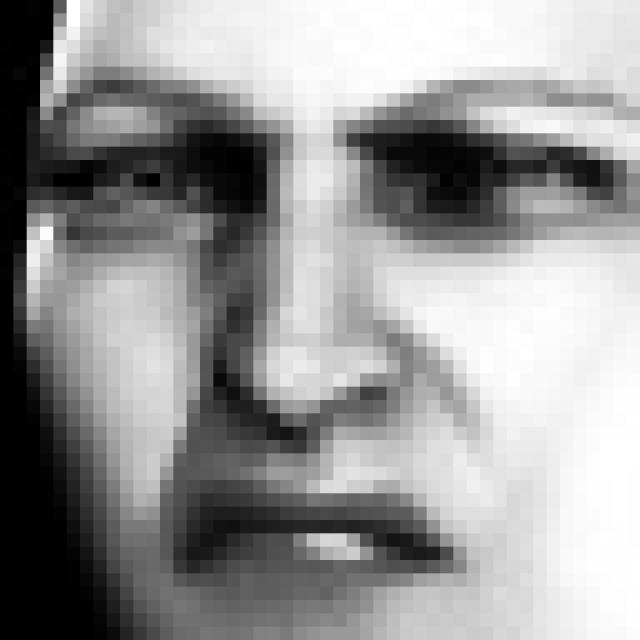disgust: (44, 66, 640, 597)
